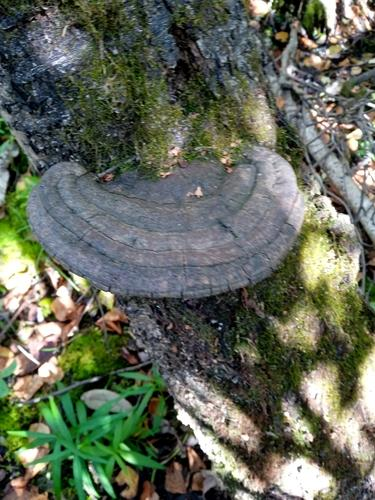Ganoderma - Fruit Body: (26, 150, 311, 306)
